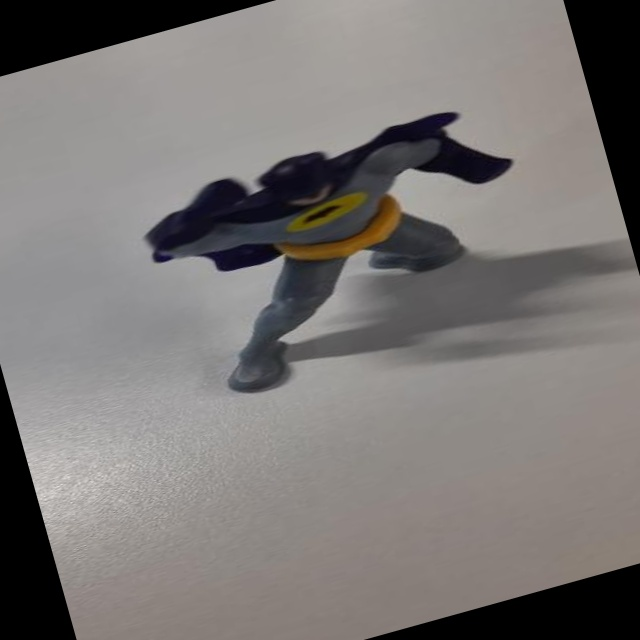Batman: (106, 77, 582, 450)
